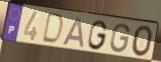4: (22, 10, 39, 43)
A: (61, 17, 85, 49)
D: (40, 12, 65, 47)
G: (87, 19, 110, 51), (109, 23, 131, 55)
O: (131, 24, 154, 59)
